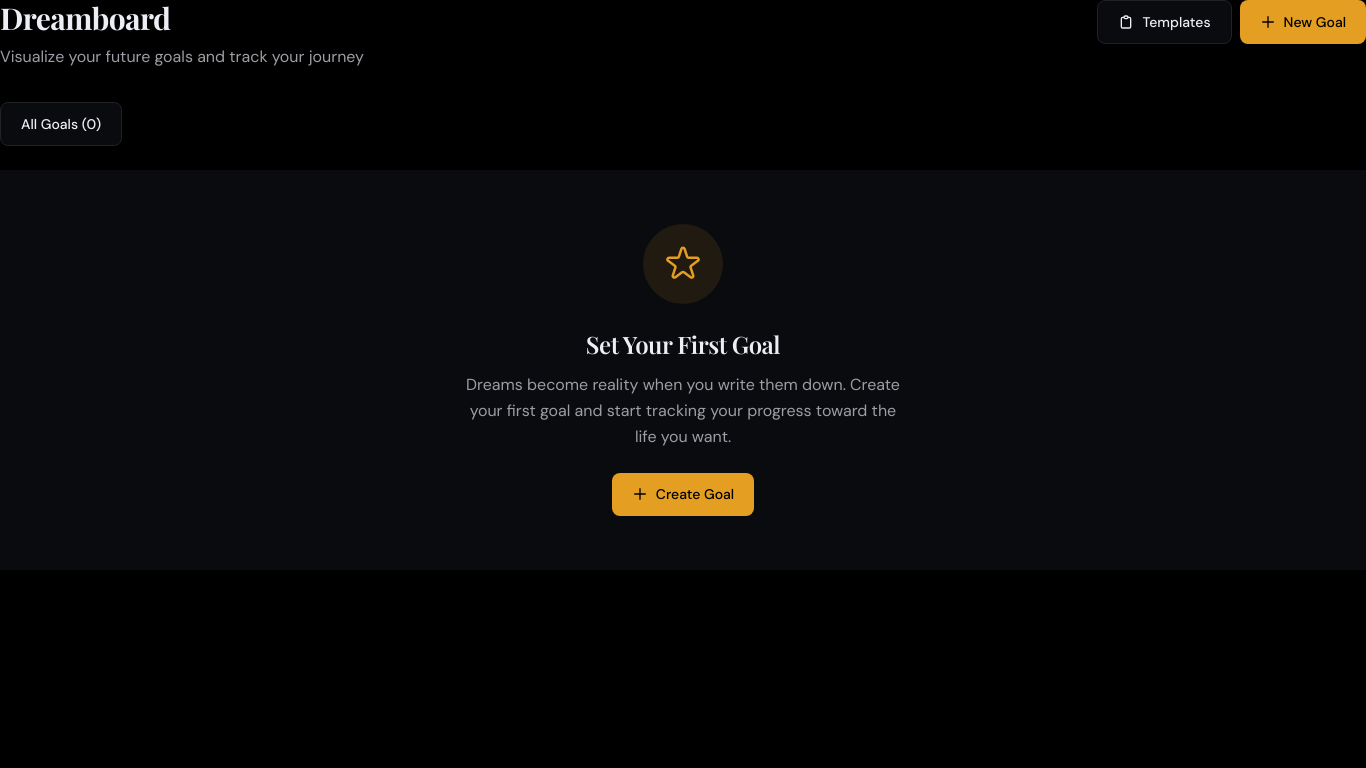
Test case: DreamboardView › Creating Goals › adds new goal to the list after creation
Click the button "New Goal": point(1303, 22) [1240,0,1365,44]
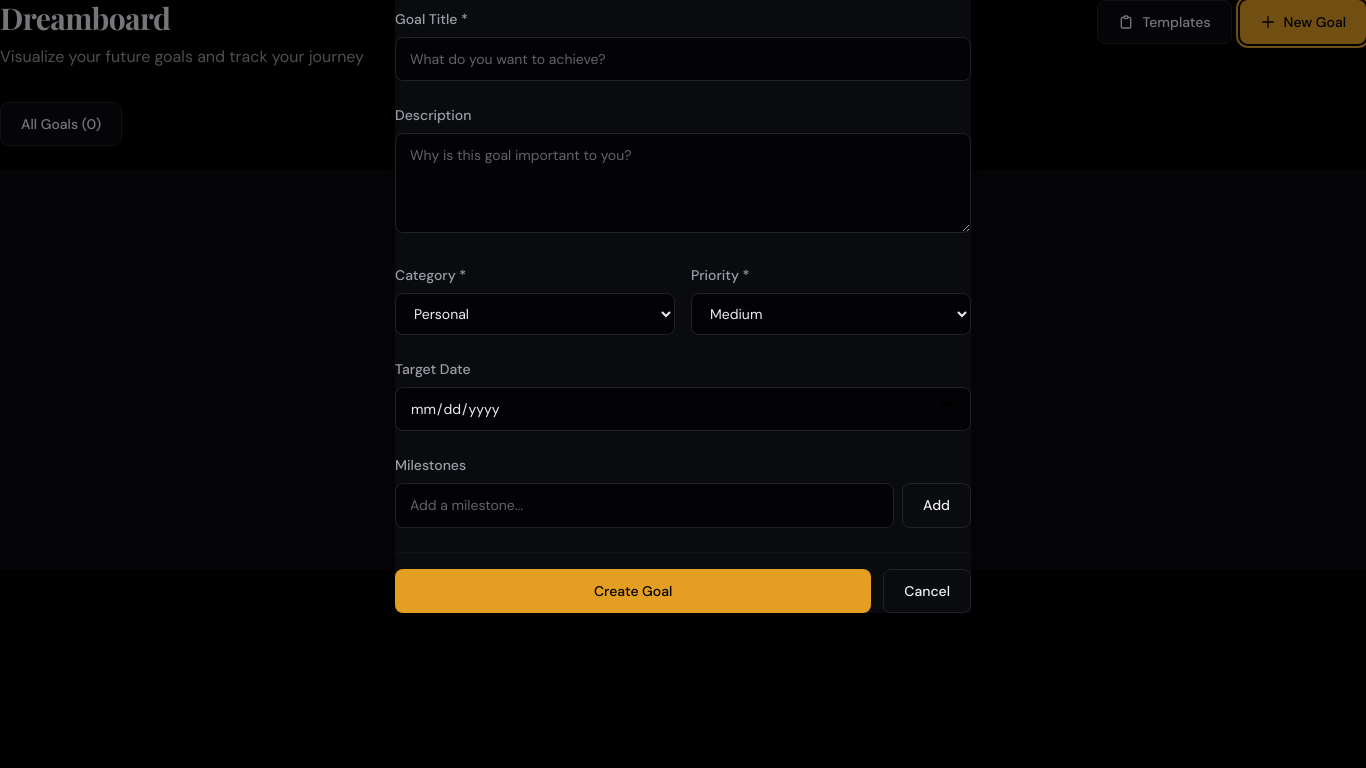
# Fill in form
In the field labelled "Goal Title *": point(683, 59) [395,37,971,81], type "My New Goal"
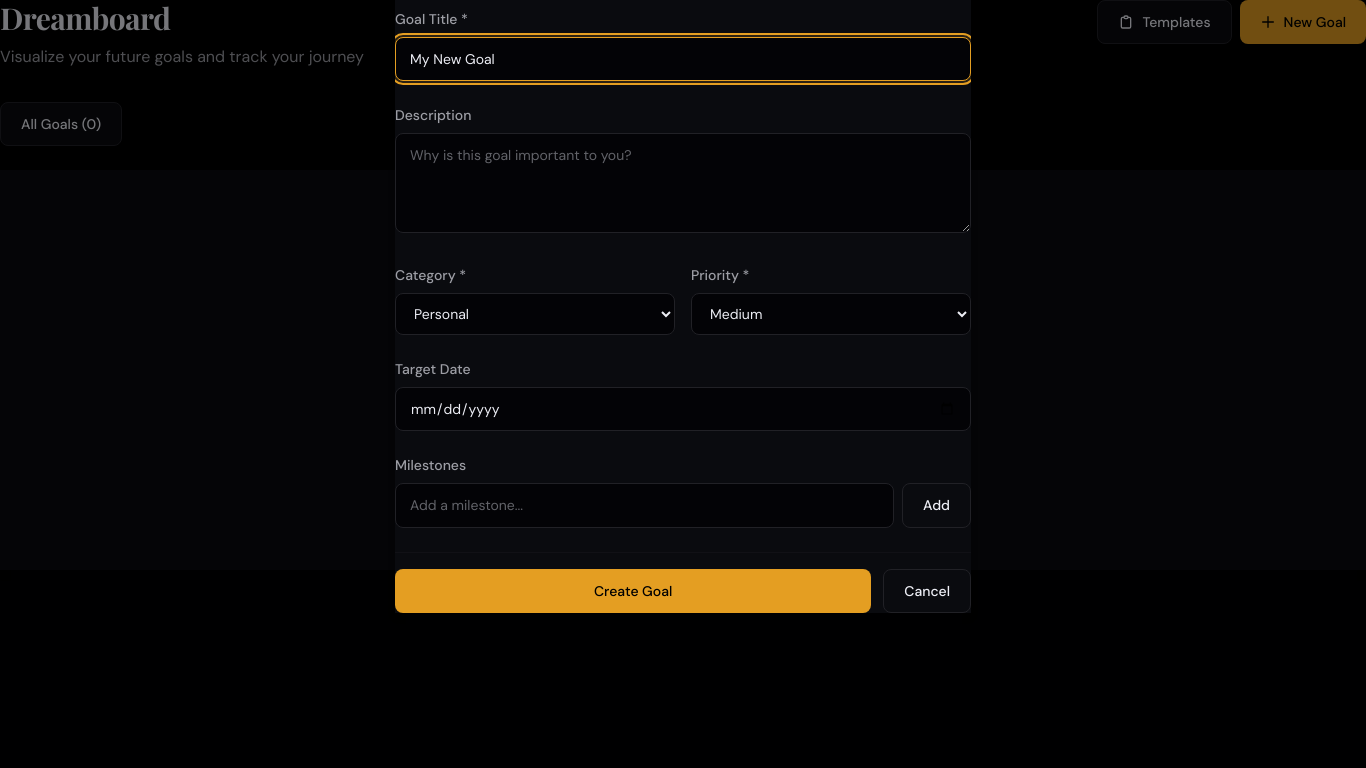
# Get all "Create Goal" buttons and click the one that's a submit button (inside the form)
Click the button "Create Goal": point(633, 591) [395,569,871,613]
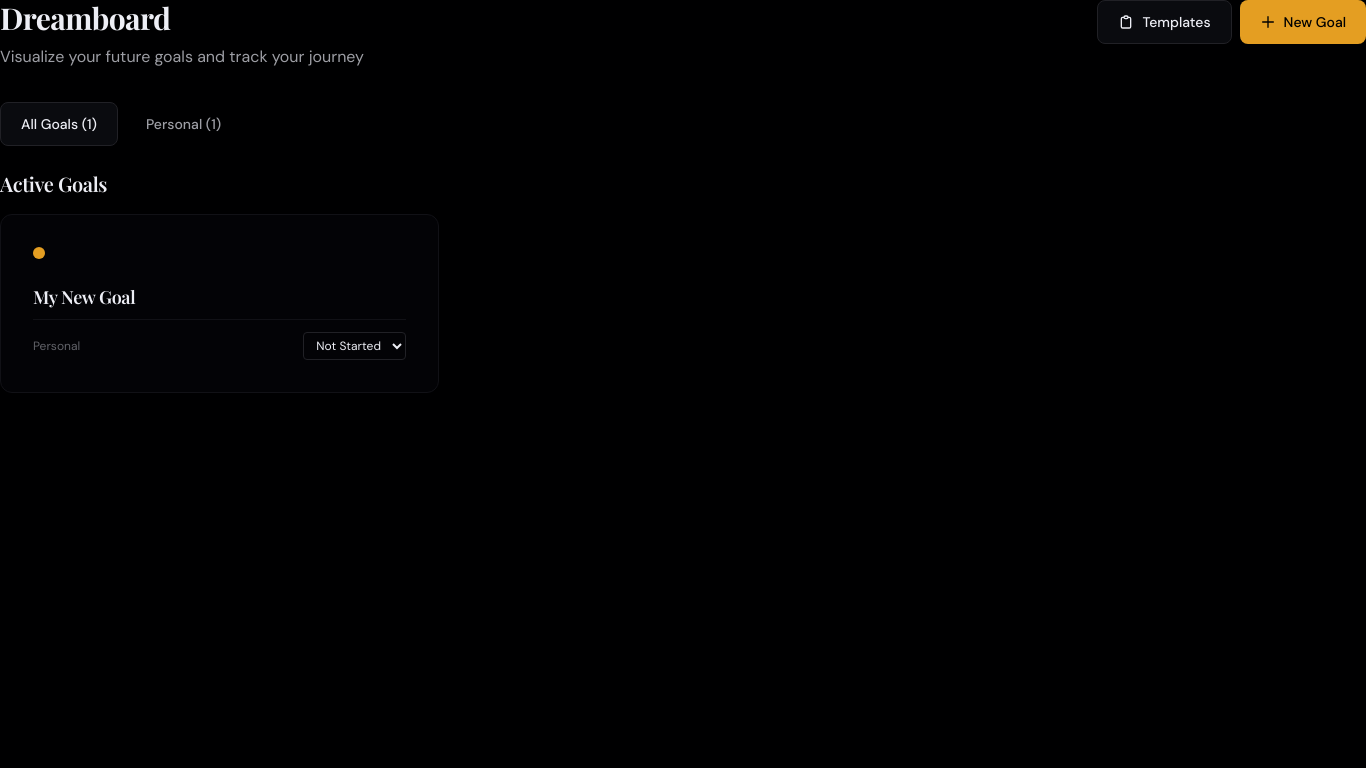
Now the heading "My New Goal" is shown, box [33,285,135,309]
